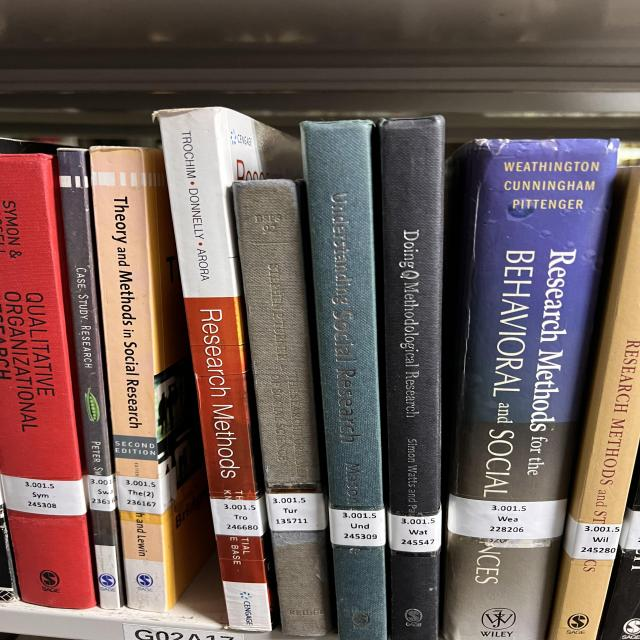Book: (443, 139, 618, 640), (155, 108, 302, 630), (90, 148, 215, 612), (233, 179, 330, 636), (302, 120, 387, 640), (0, 154, 97, 609), (548, 168, 640, 640), (377, 116, 445, 640), (57, 149, 125, 610)
Label: (448, 495, 567, 540), (2, 475, 87, 516), (115, 469, 177, 514), (563, 515, 622, 560), (265, 492, 327, 531), (210, 496, 267, 536), (388, 510, 442, 552), (328, 508, 387, 546), (87, 475, 117, 511)
